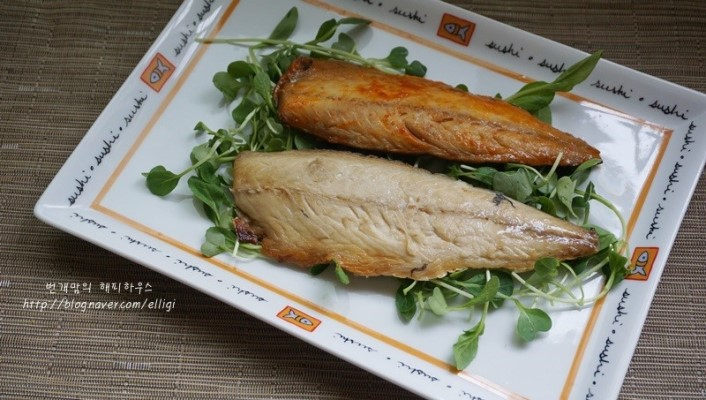godeung-eogu-i: (230, 145, 607, 281), (264, 50, 601, 169)
